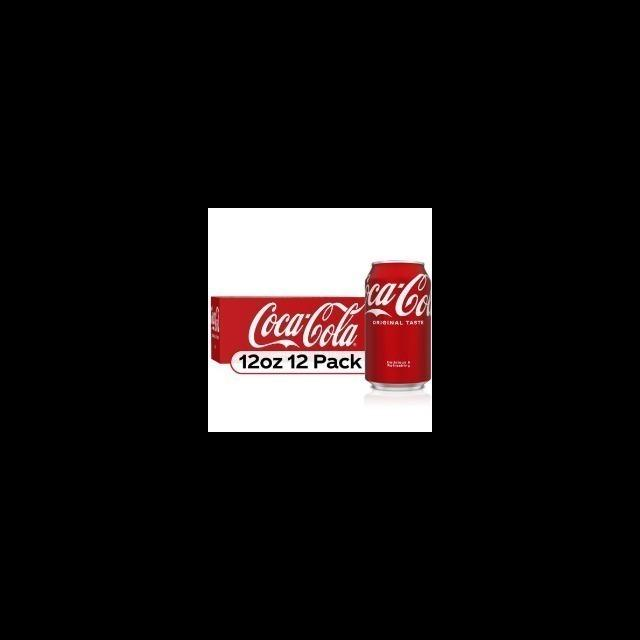metal: (360, 252, 432, 398)
